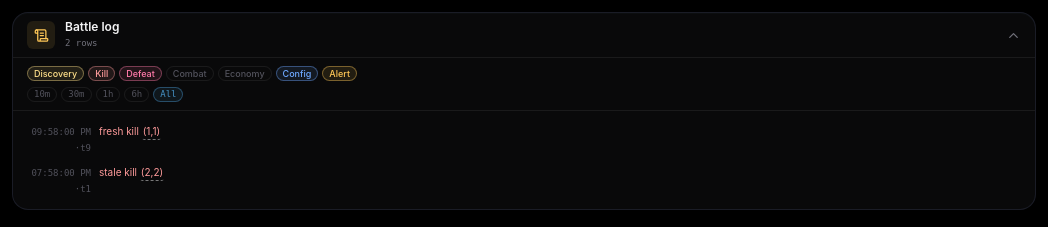
Test case: BattleLogPanel › filters rows older than the chosen time window
The image size is (1048, 227).
Expected: the text "stale kill" is shown, [99, 166, 140, 178]
Click the button "10m".
click(42, 94)  # box [27, 87, 57, 102]
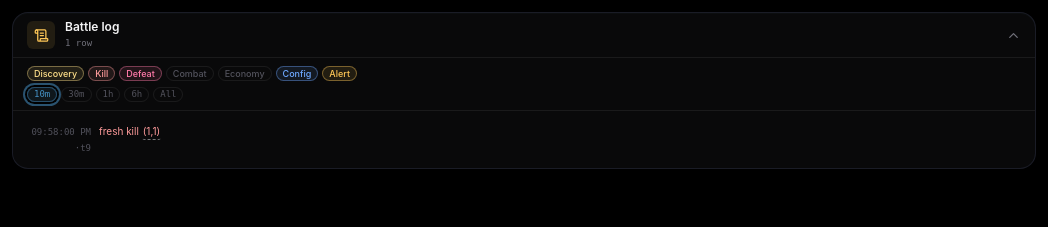
Expected: the text "fresh kill" is shown, [99, 125, 142, 137]
Expected: the text "stale kill" is gone
